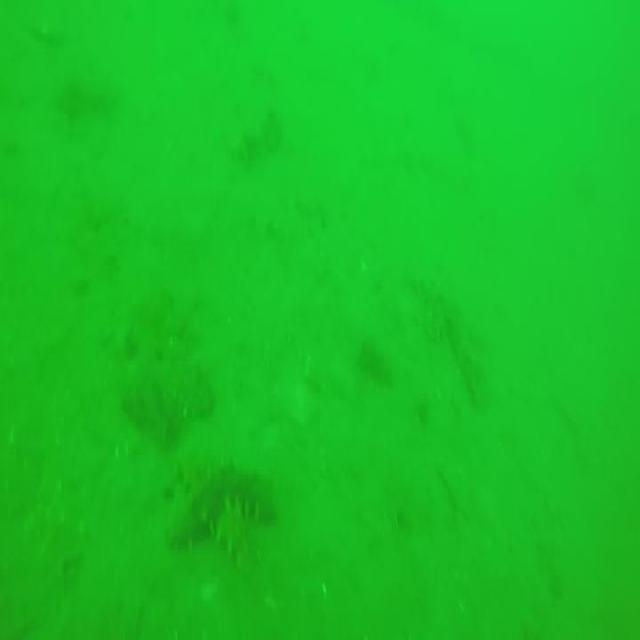holothurian: (159, 453, 279, 577)
